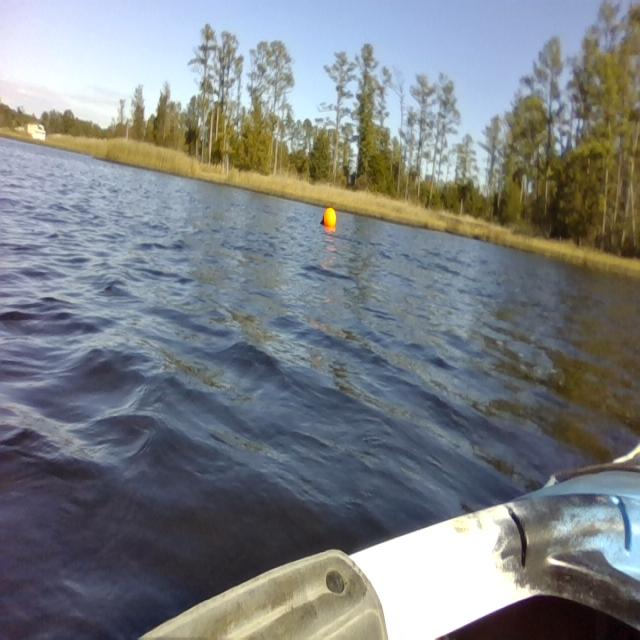Buoy: (321, 204, 338, 231)
